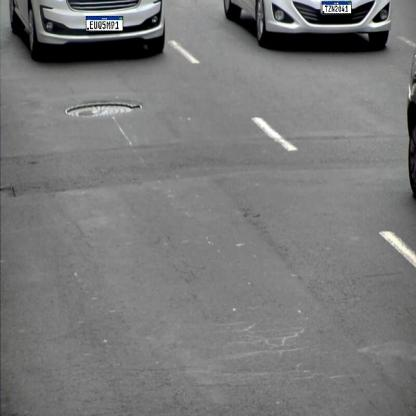PlacaM: (86, 16, 123, 31), (322, 1, 351, 14)
